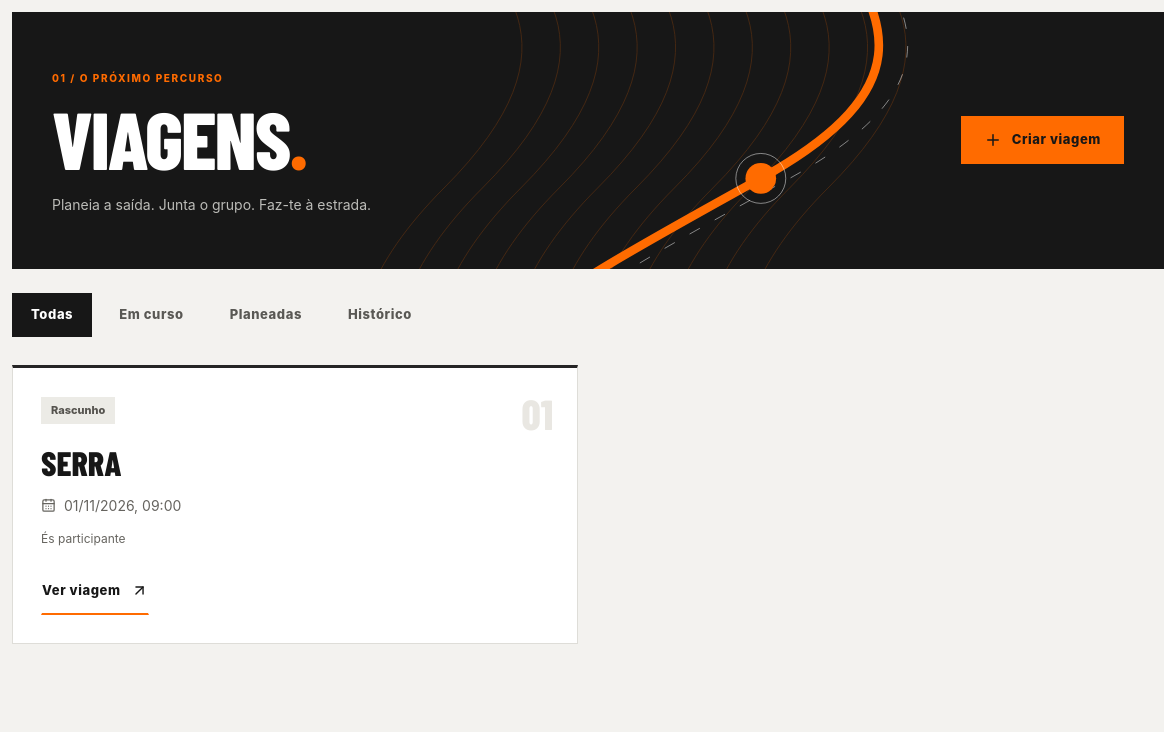
trip permissions in the UI › lets a rider read the itinerary without organizer actions
This screenshot has width=1164, height=732.
Click the button with aria-label "Ver viagem Serra" at (95, 591), box [41,567,149,615]
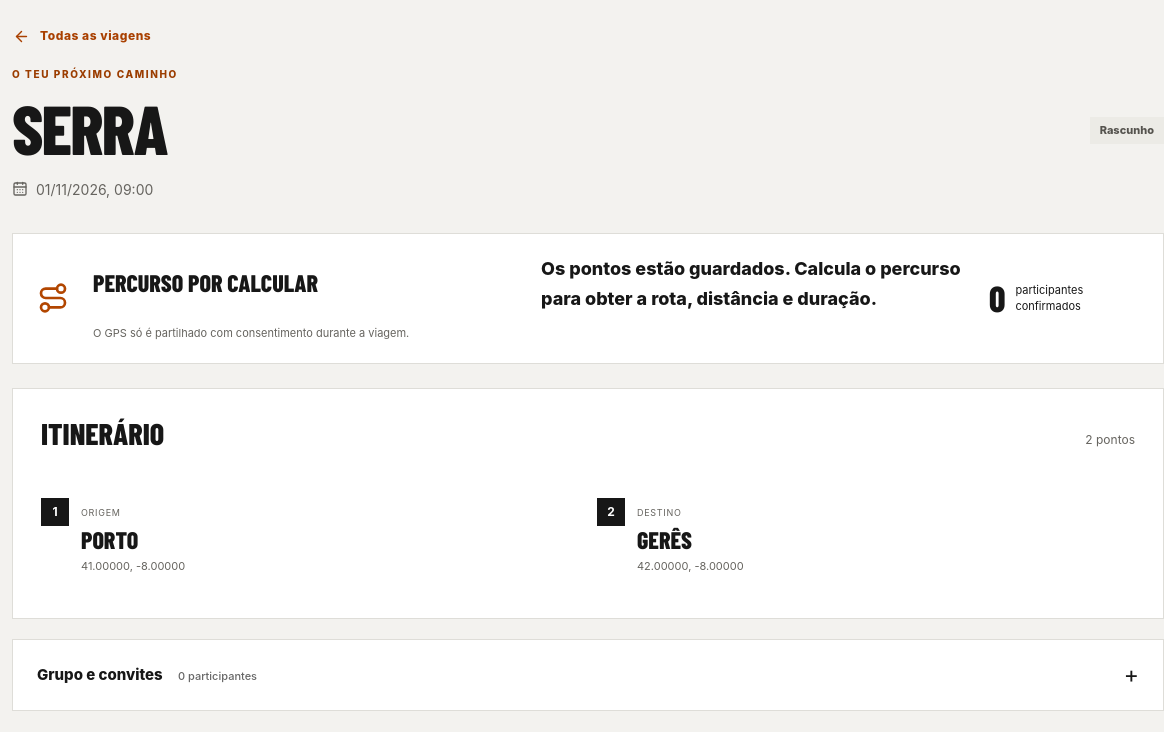
Now the heading "Itinerário" is shown, box [41,417,164,450]
Now the heading "Porto" is shown, box [81,525,138,554]
Now the heading "Percurso por calcular" is shown, box [93,268,318,297]
